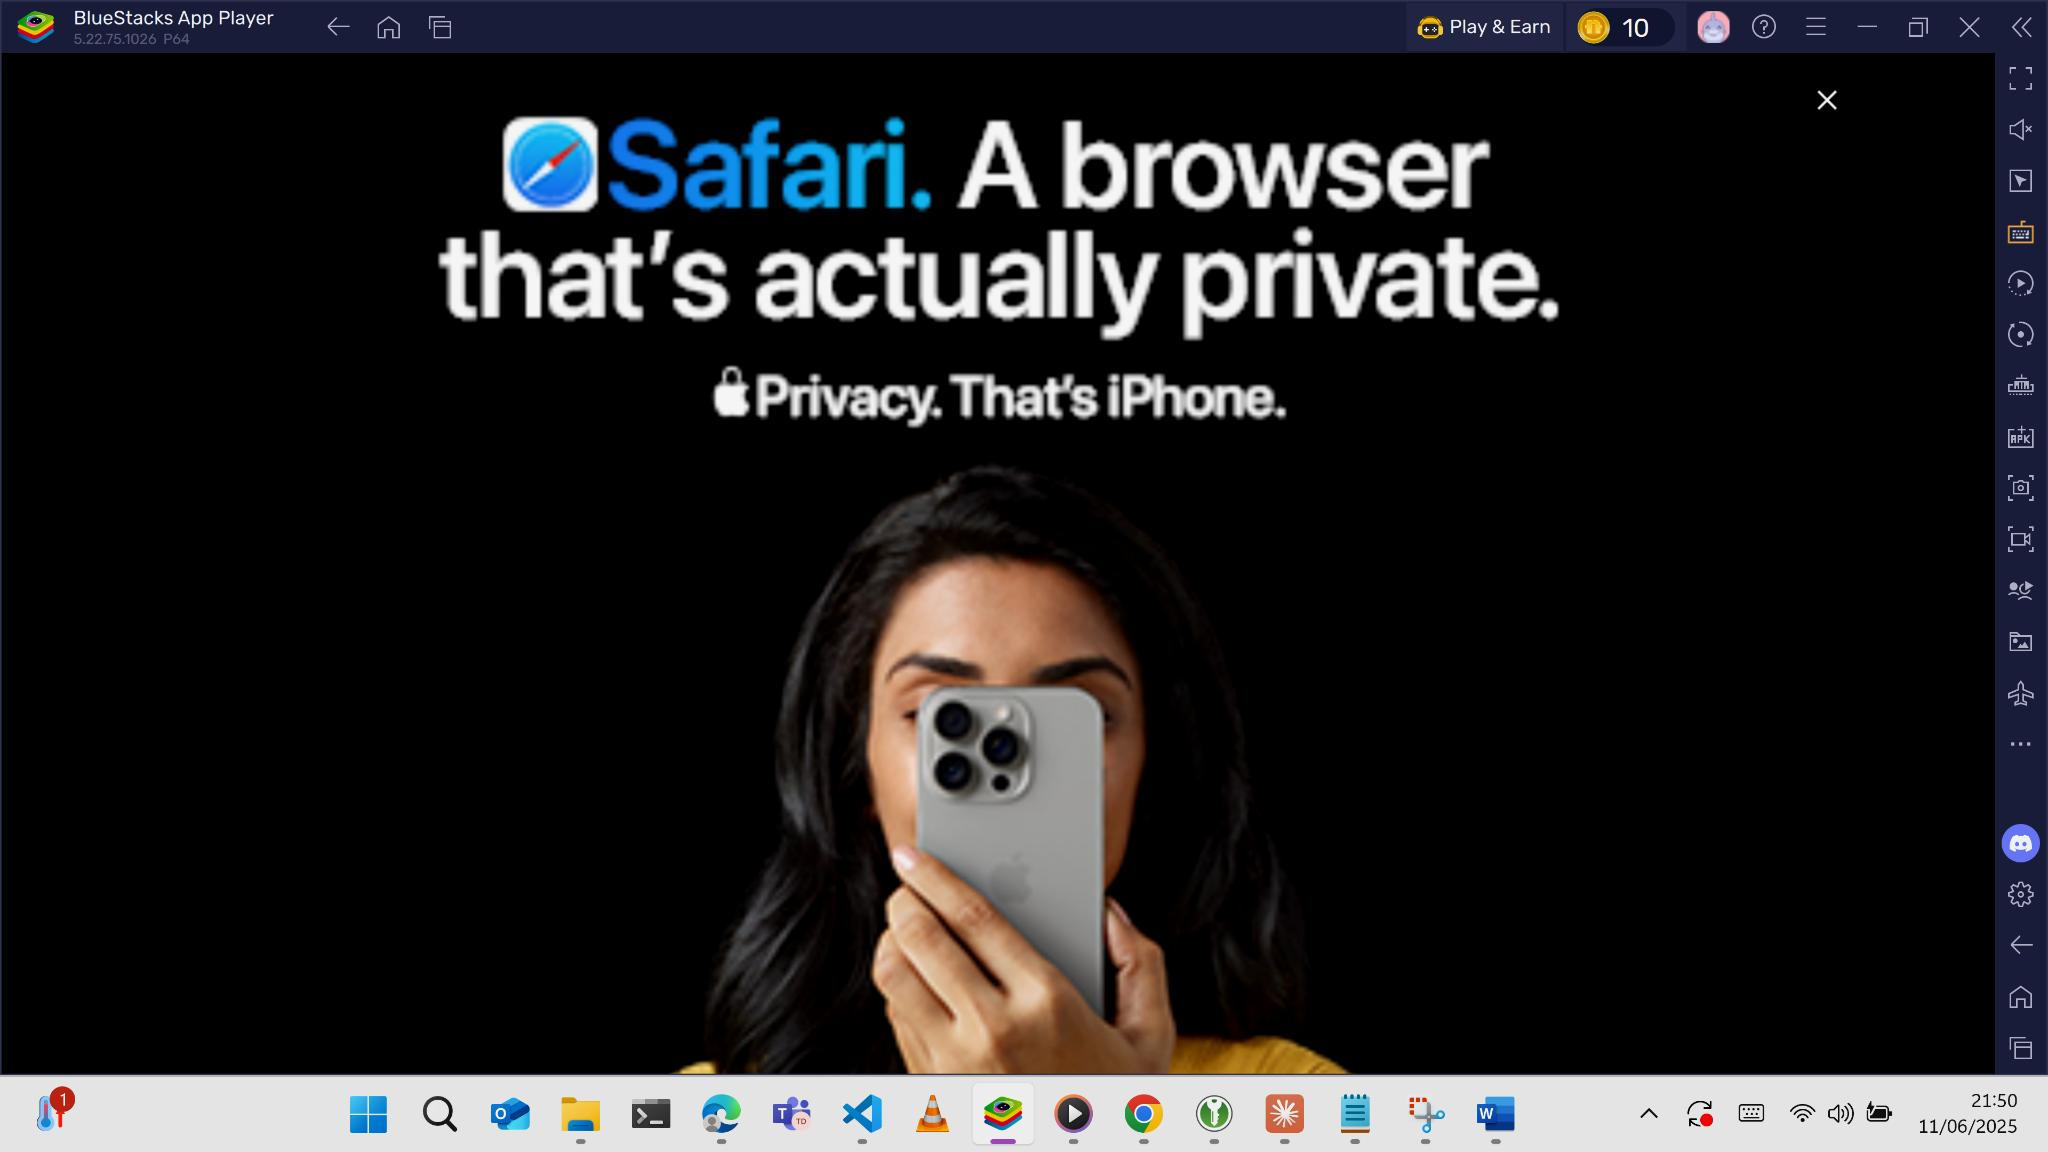close_ad: (1816, 90, 1838, 111)
